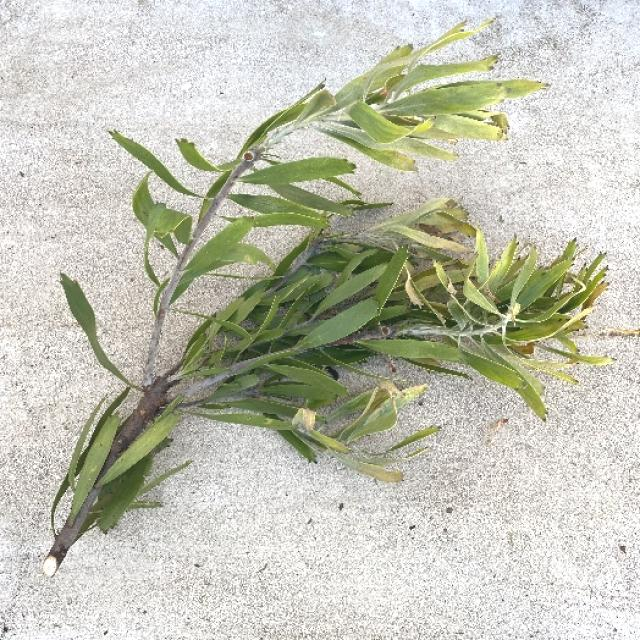wet: (60, 59, 548, 486)
